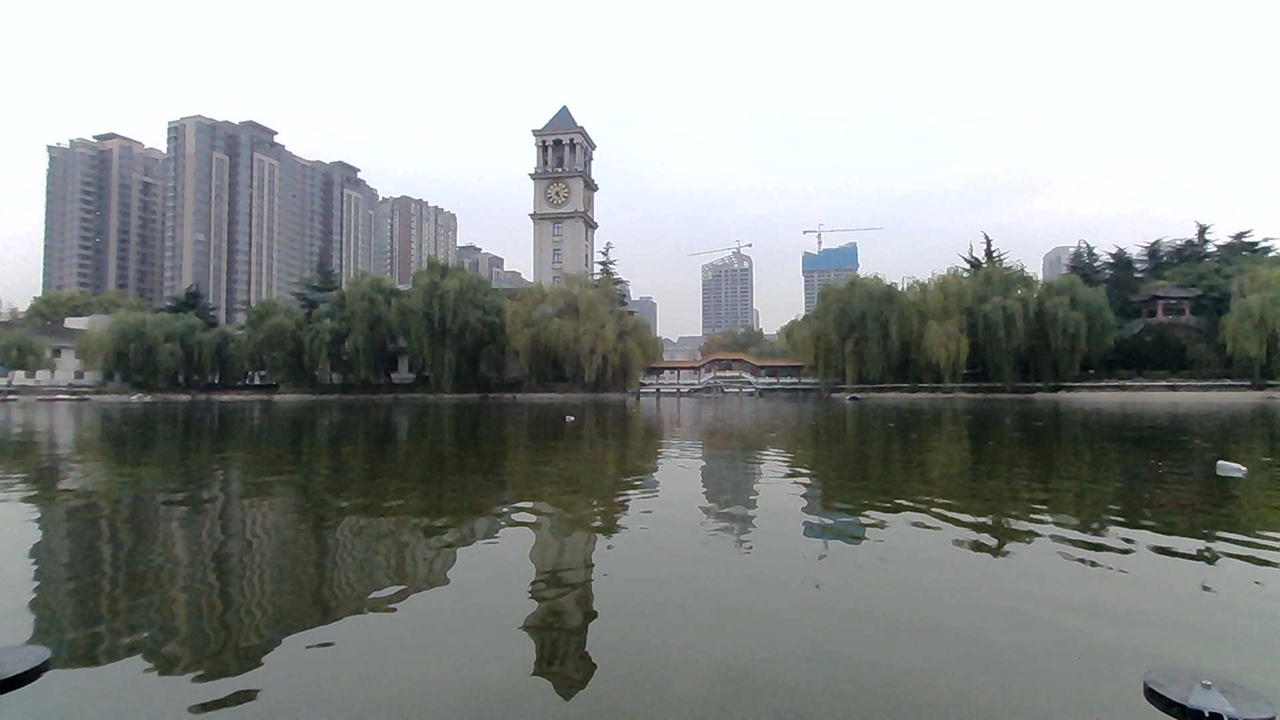bottle: (1212, 459, 1244, 480), (554, 406, 585, 427)
